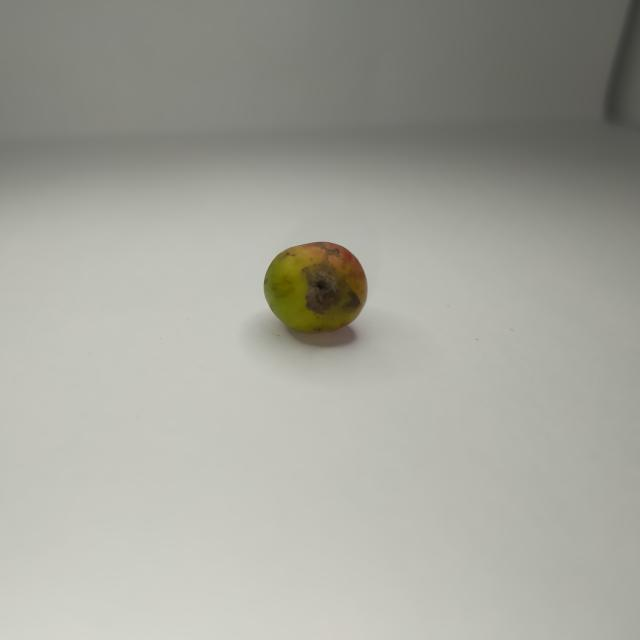Infectado: (264, 242, 367, 333)
